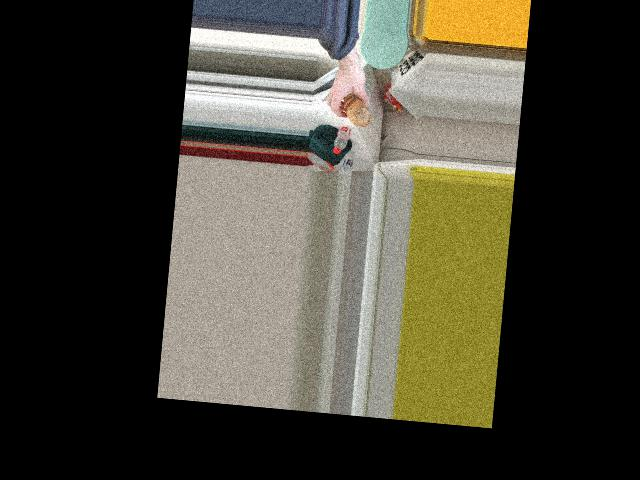sweet_potato: (342, 92, 372, 128)
